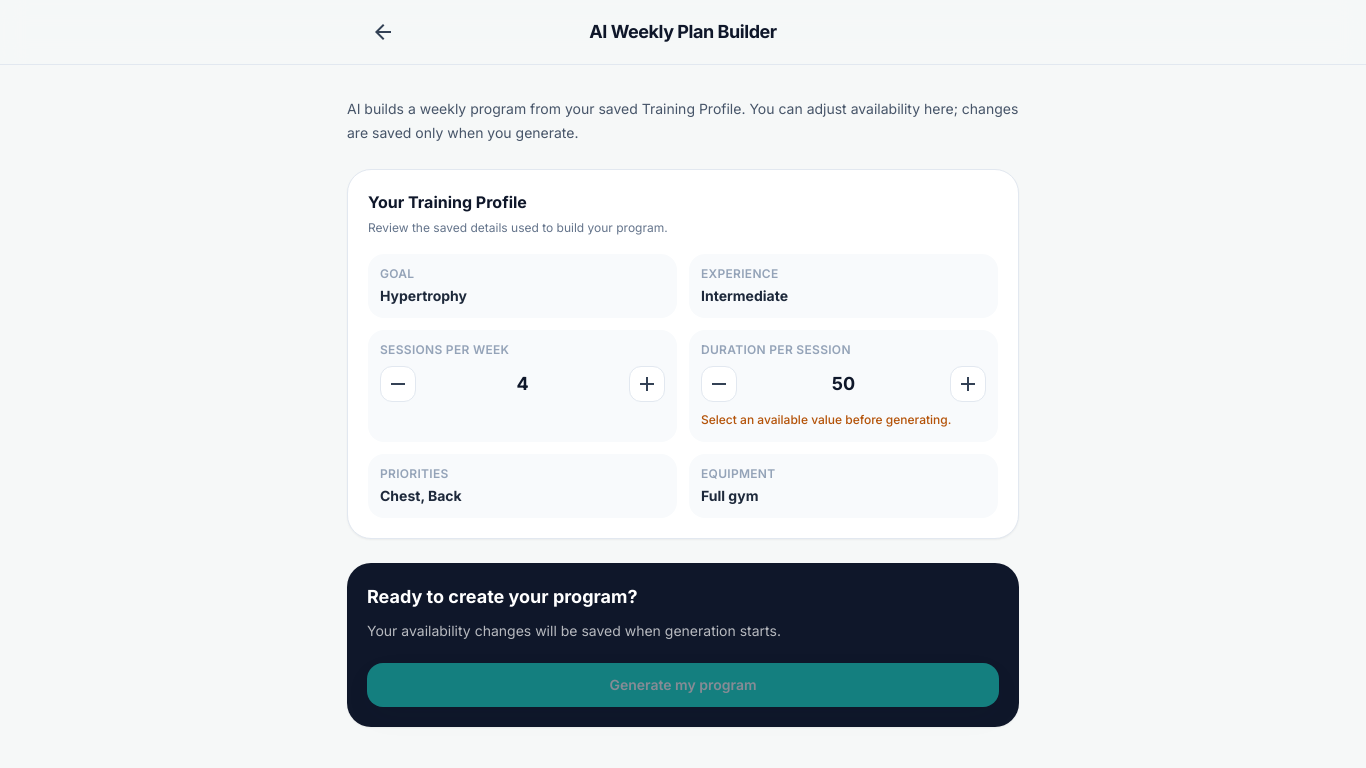
Test: legacy availability remains visible and requires an explicit valid selection
Check: the text "Hypertrophy" is shown, box left=380, top=287, right=467, bottom=304
Check: the text "50" is shown, box left=832, top=373, right=855, bottom=394
What coordinates should you click on to do the following:
click the button named "Increase duration per session"
I would click on:
 (968, 384)
Its box is left=950, top=366, right=986, bottom=402.
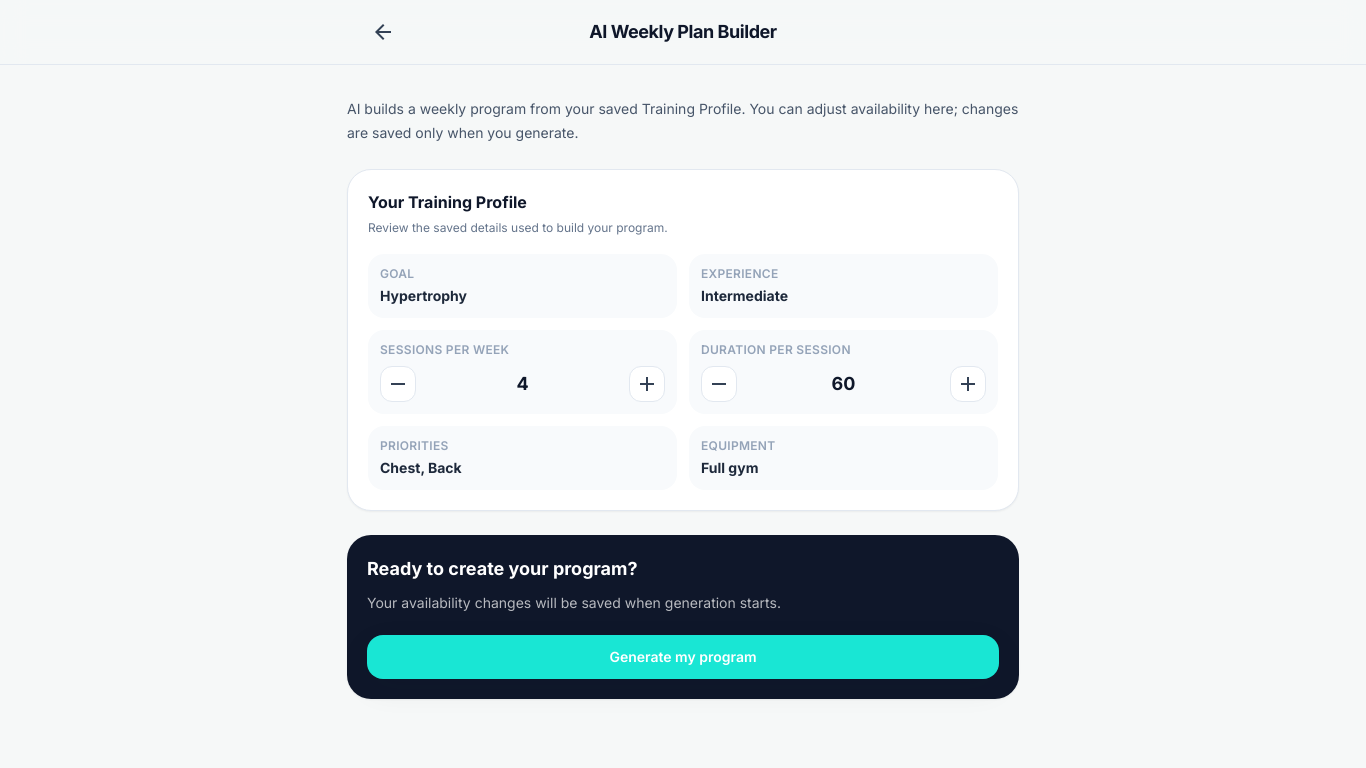
Check: the text "60" is shown, box left=832, top=373, right=855, bottom=394
Check: the button "Generate my program" is enabled, box left=367, top=635, right=999, bottom=679
